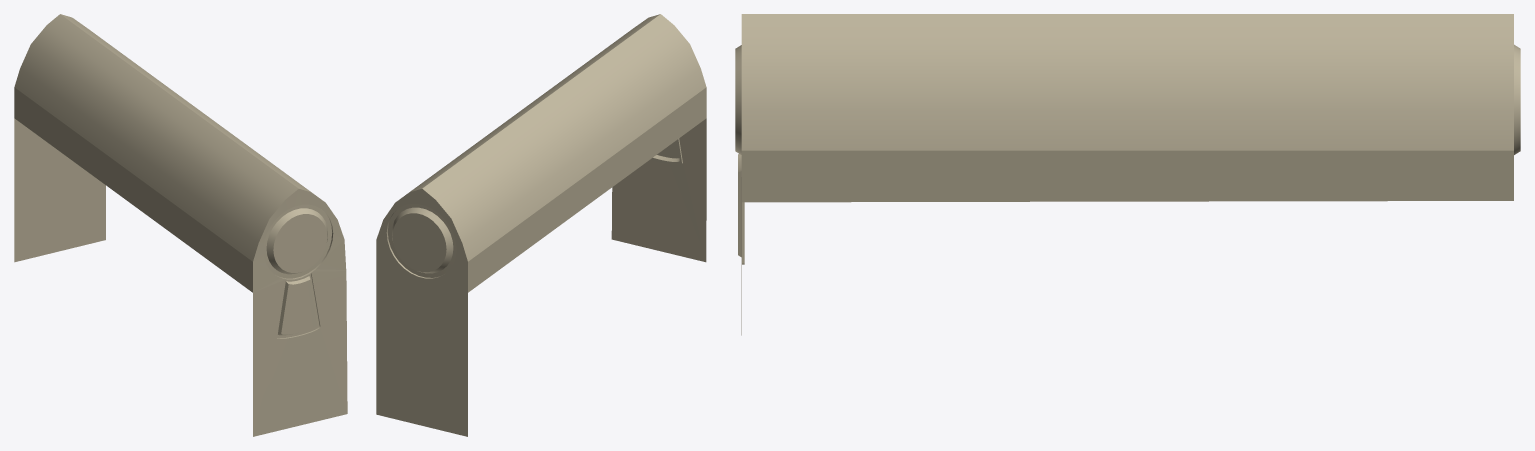
The model's file is mur_plaafond_vitrail.fbx.
3 views of the same model, side by side, from view 1: azimuth 30°, elevation 25°; view 2: azimuth 150°, elevation 25°; view 3: azimuth 270°, elevation 25° (orthographic). The views are drawn at different scales.
Visible parts, largest first — view 1: mur_plafond_vitrail; view 2: mur_plafond_vitrail; view 3: mur_plafond_vitrail.
Part boxes in pixels (x1,y1,x2,y2): mur_plafond_vitrail: [14, 14, 347, 436]; mur_plafond_vitrail: [376, 14, 706, 436]; mur_plafond_vitrail: [735, 14, 1520, 335].
Size of the model in its own units: 138 by 329 by 610.
